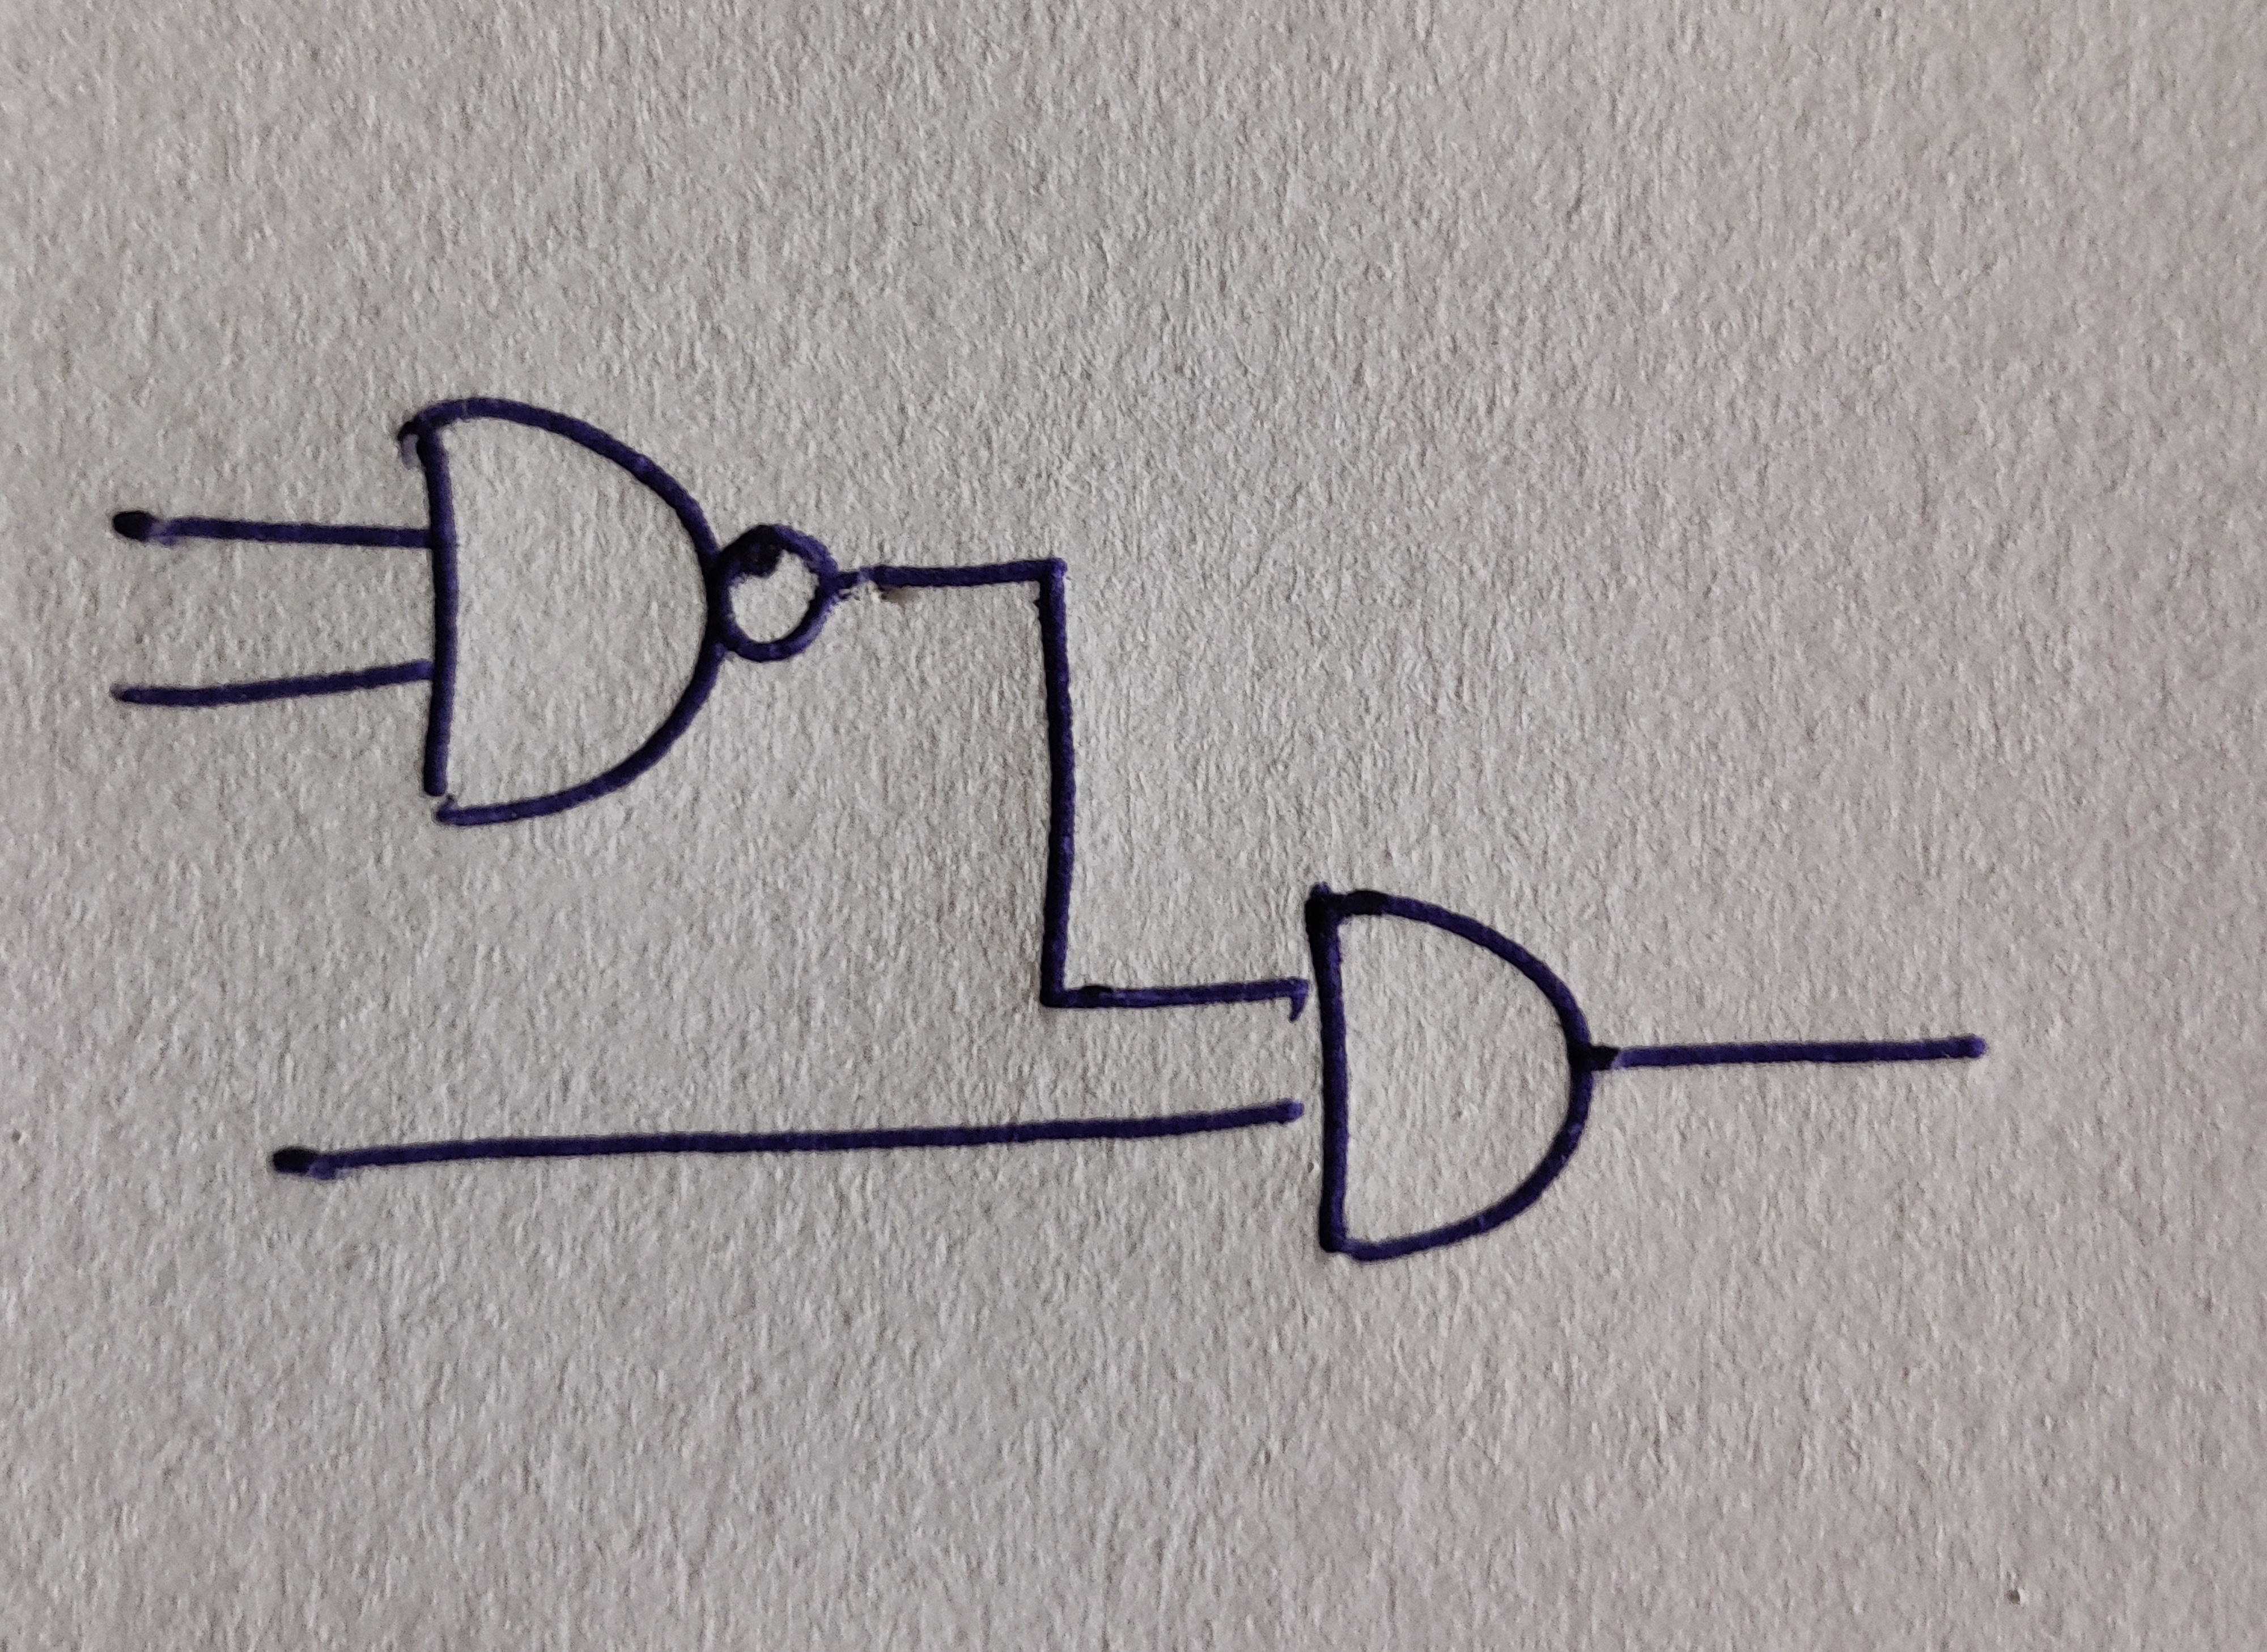and: (393, 396, 732, 827), (1304, 885, 1595, 1260)
not: (716, 524, 841, 662)
